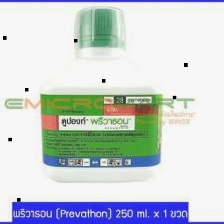insecticide: (36, 3, 165, 185)
